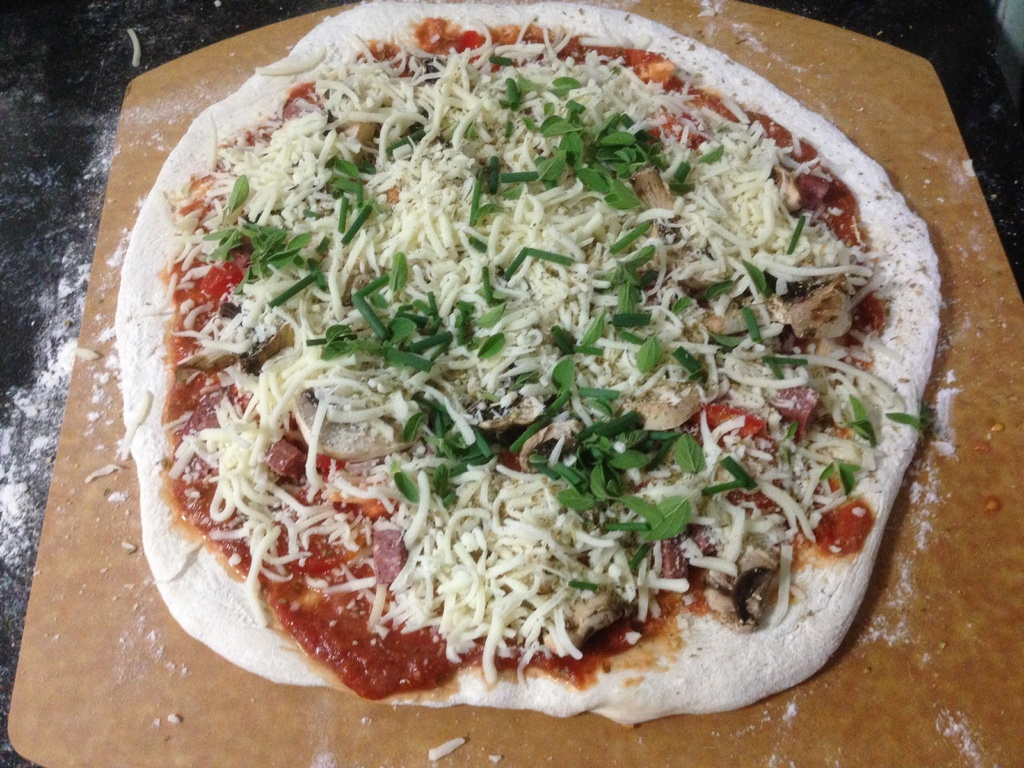Pizza: (115, 0, 939, 730)
